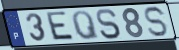3: (25, 12, 47, 43)
8: (121, 7, 145, 40)
E: (46, 10, 77, 42)
Q: (71, 9, 101, 41)
S: (95, 8, 123, 41), (143, 5, 170, 39)
